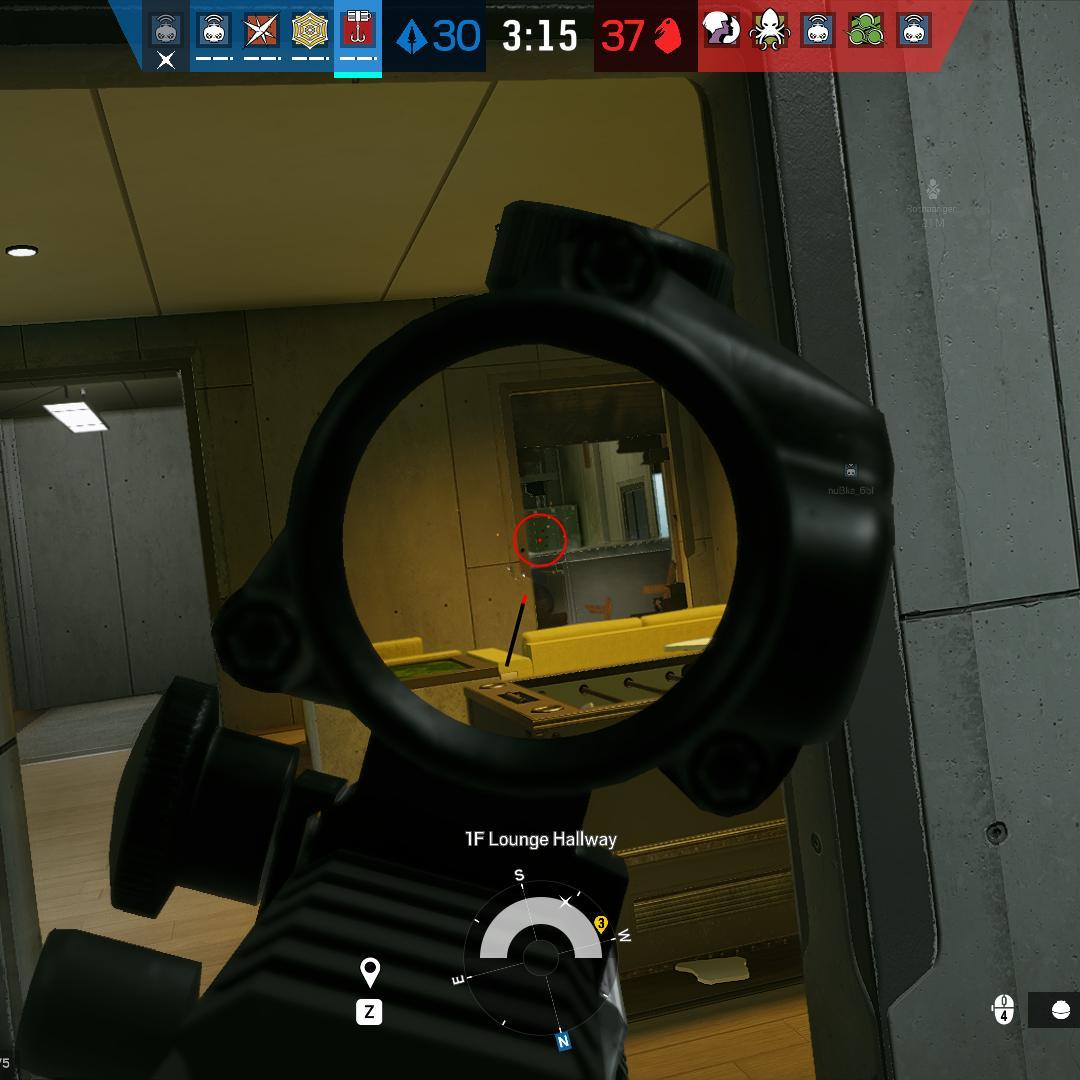Friend_label: (826, 461, 876, 496)
